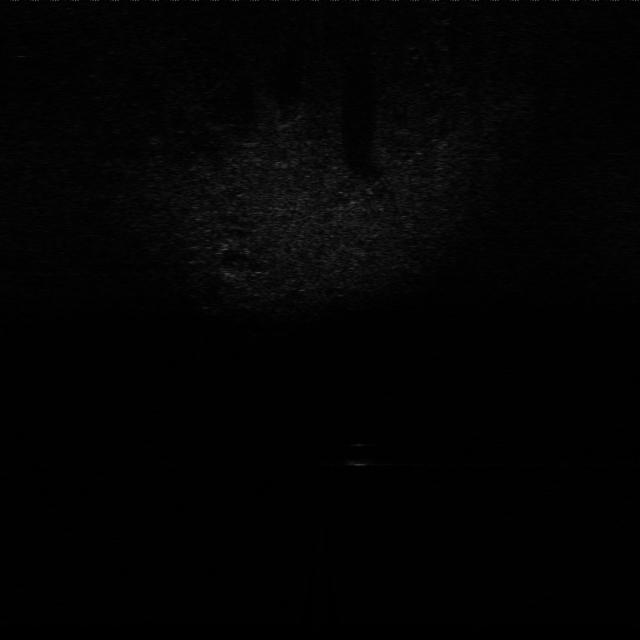ball: (342, 437, 384, 467)
